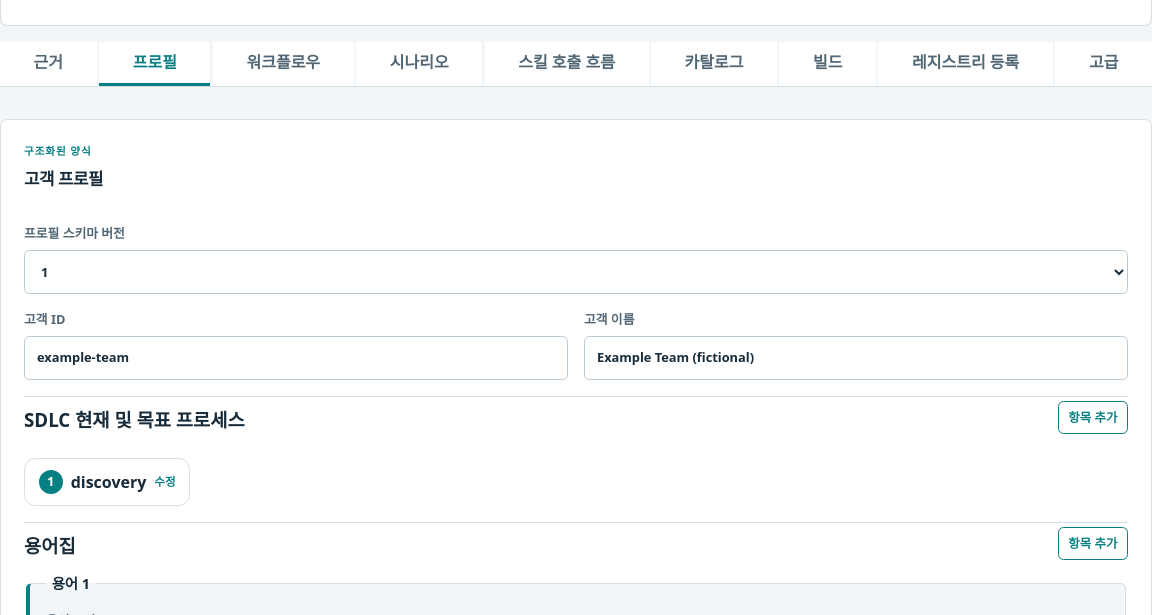
StudioDesignPageContent › blocks PUT for an invalid typed field and preserves it across a sibling edit
The image size is (1152, 615).
(page scrolled)
Replace the text in the field labelled "고객 ID" with "Not Valid". click: (296, 358)
box: 24,336 -> 568,380
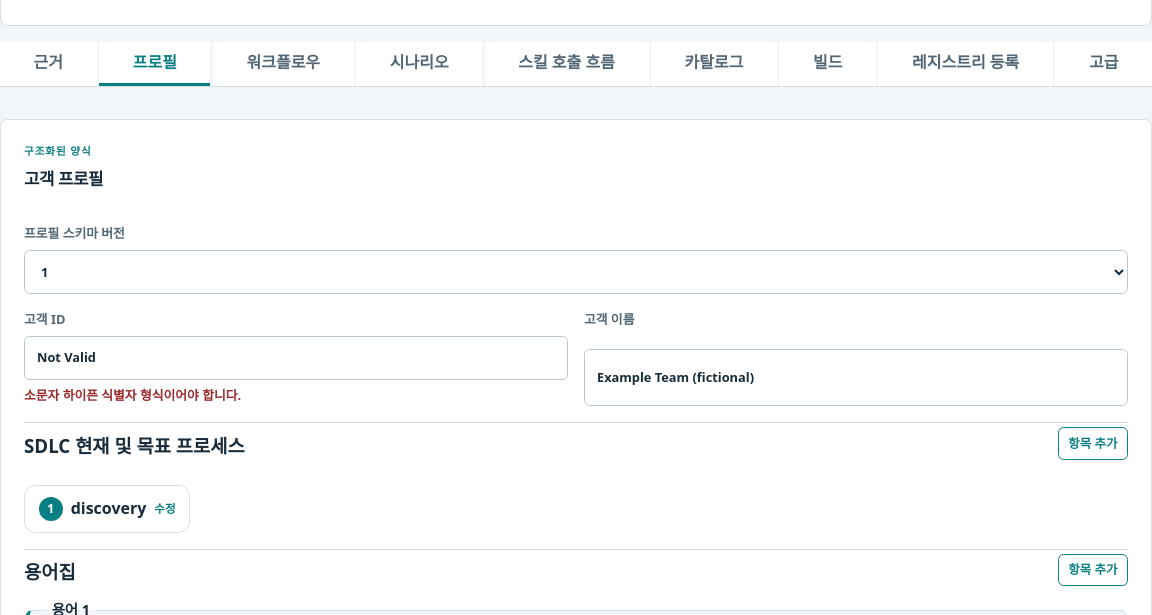
Replace the text in the field labelled "고객 이름" with "Sibling edit". click: (856, 378)
box: 584,349 -> 1128,406
(page scrolled)
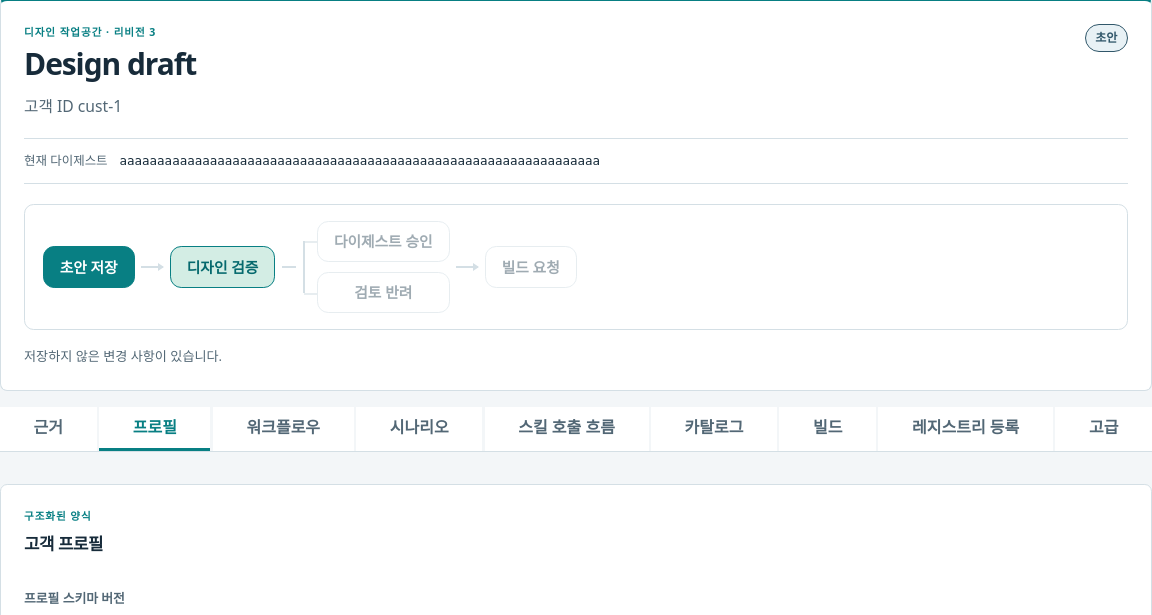
Click the button "초안 저장". click: (89, 267)
box: 43,246 -> 135,288
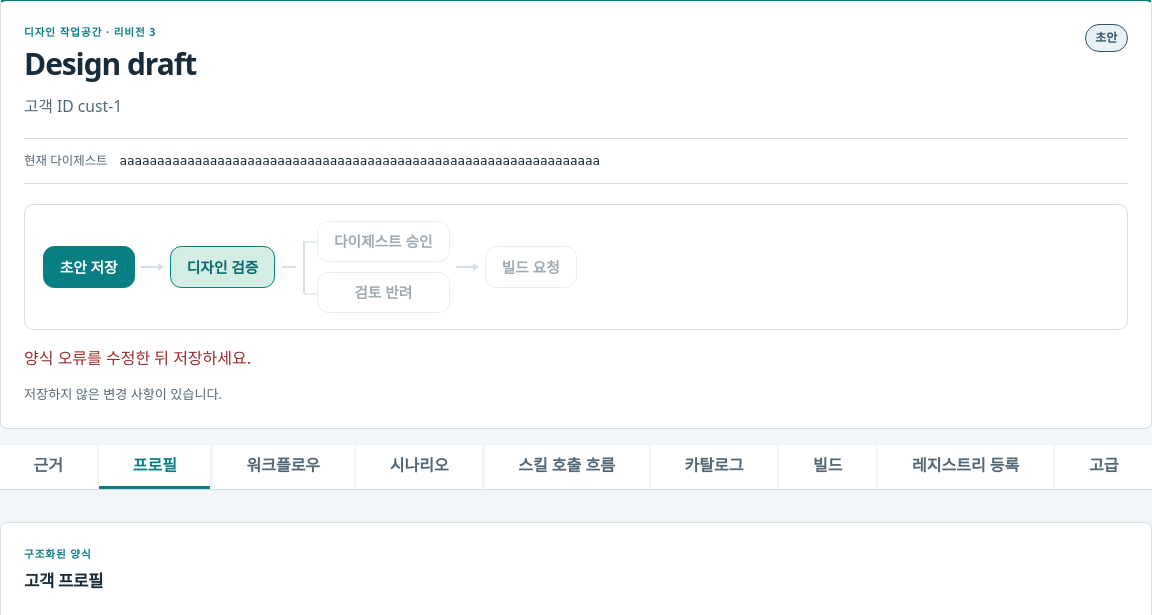
Expected: the text "양식 오류를 수정한 뒤 저장하세요." is shown, 24,347 -> 251,369
